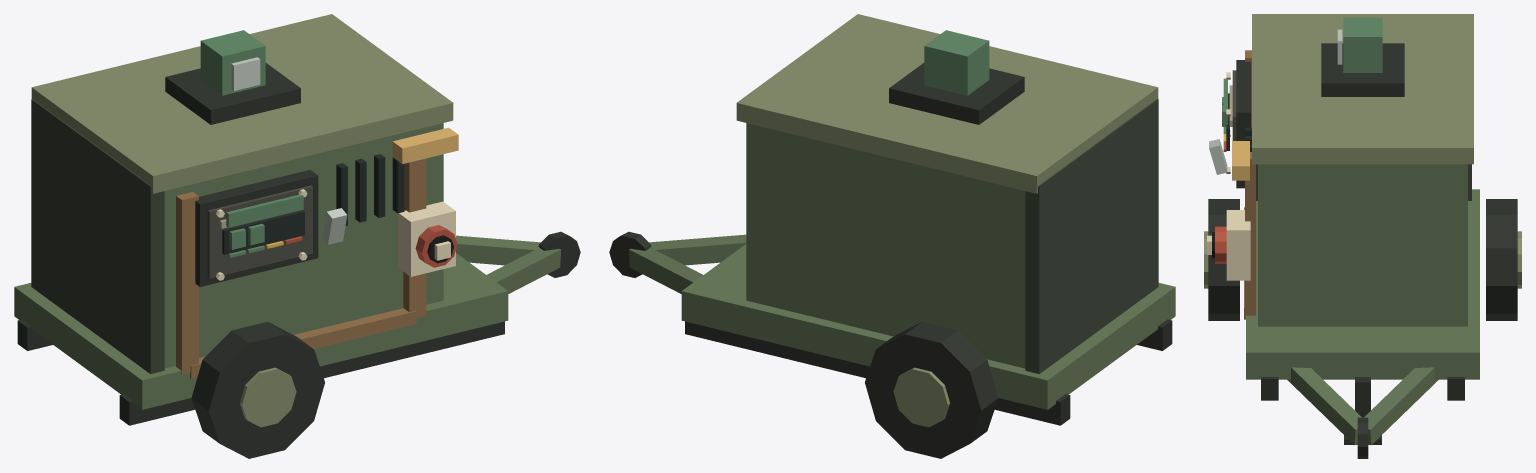
The model's file is lwf_towable_generator_normal_v1.glb.
3 renders of one model, left to right at view 1: azimuth 30°, elevation 25°; view 2: azimuth 150°, elevation 25°; view 3: azimuth 270°, elevation 25°, orthographic. The views are drawn at different scales.
Parts seen in each view (by area): view 1: LWF_Generator_Base, LWF_Generator_State_Normal; view 2: LWF_Generator_Base, LWF_Generator_State_Normal; view 3: LWF_Generator_Base, LWF_Generator_State_Normal.
Part boxes in pixels (x1=…): LWF_Generator_Base: x1=14, y1=14, x2=580, y2=458; LWF_Generator_State_Normal: x1=165, y1=30, x2=347, y2=249; LWF_Generator_Base: x1=609, y1=14, x2=1175, y2=458; LWF_Generator_State_Normal: x1=889, y1=30, x2=1024, y2=124; LWF_Generator_Base: x1=1204, y1=14, x2=1521, y2=458; LWF_Generator_State_Normal: x1=1209, y1=17, x2=1404, y2=174.
Size of the model in its own units: 2.68 by 1.73 by 1.6.
Materials: 1 (1 with a texture image).
